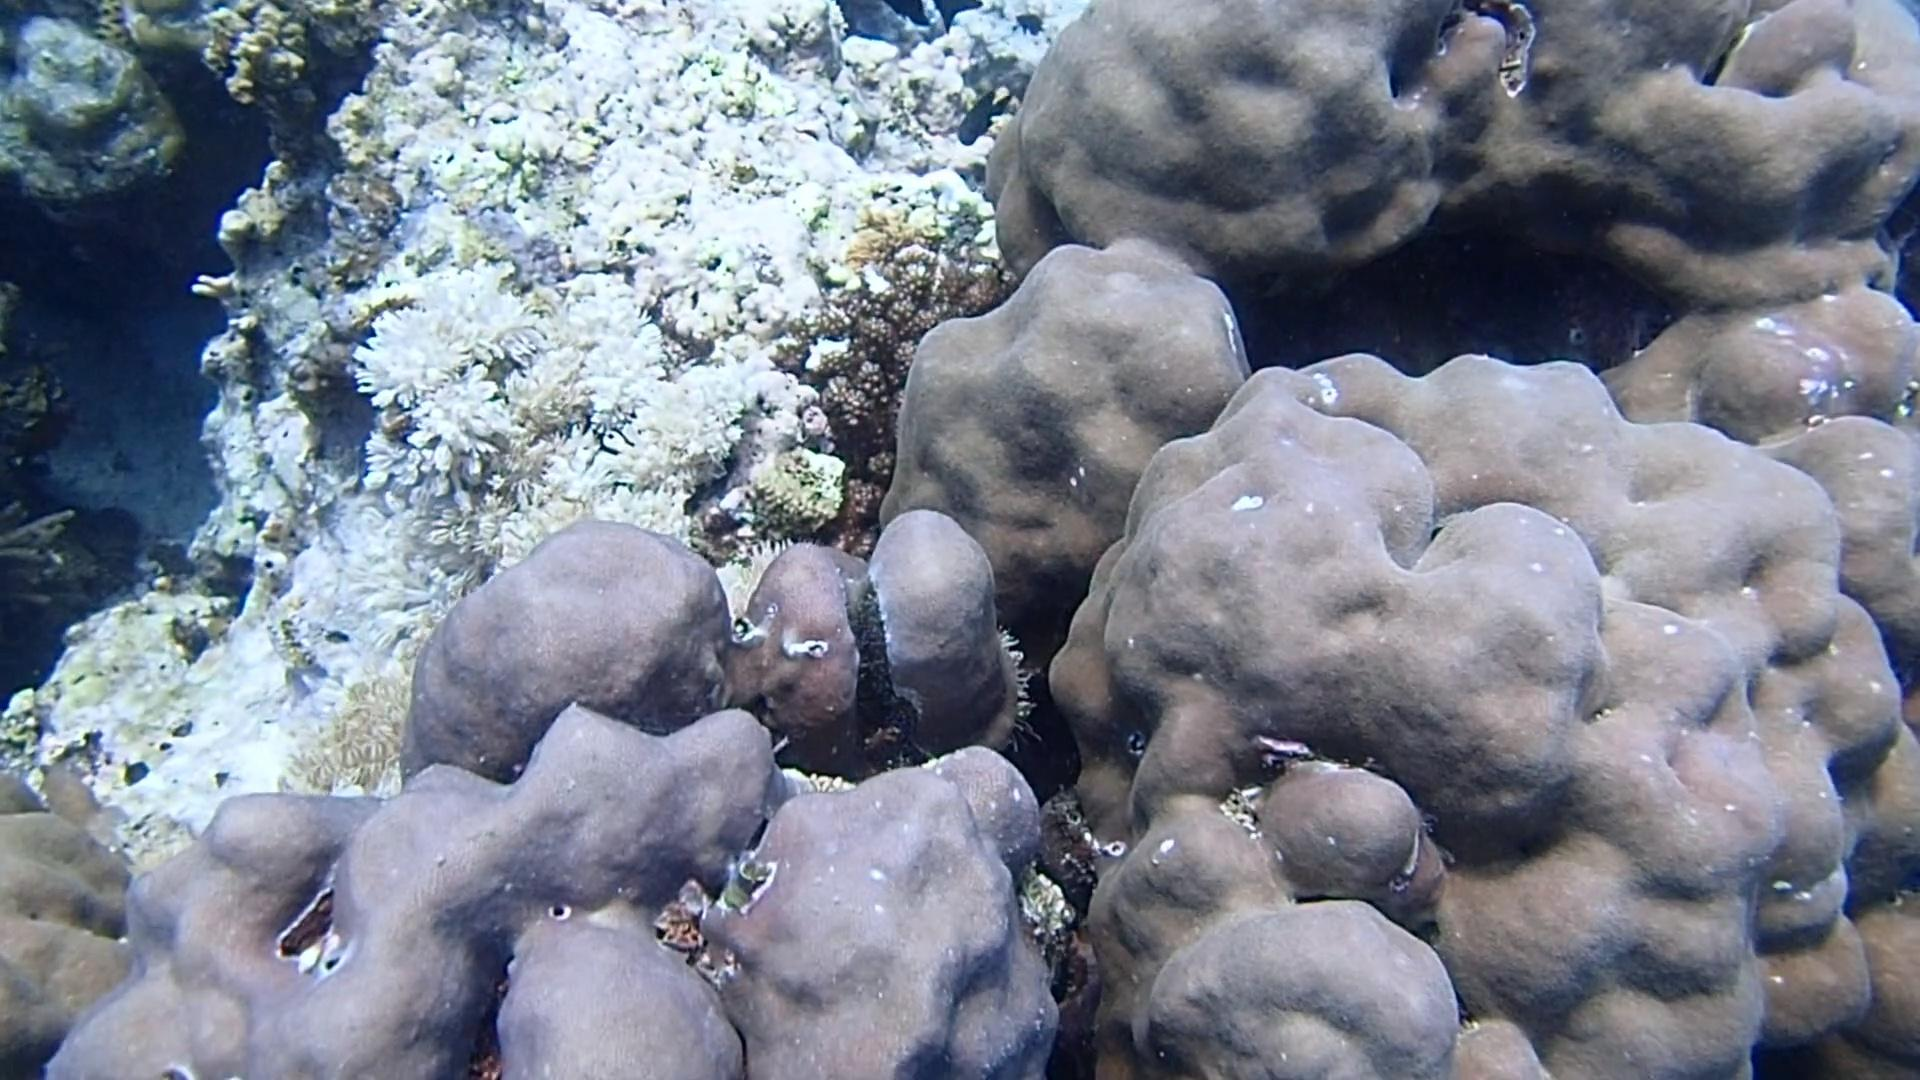Dark Fish: (955, 84, 1015, 149), (1010, 5, 1054, 46)
